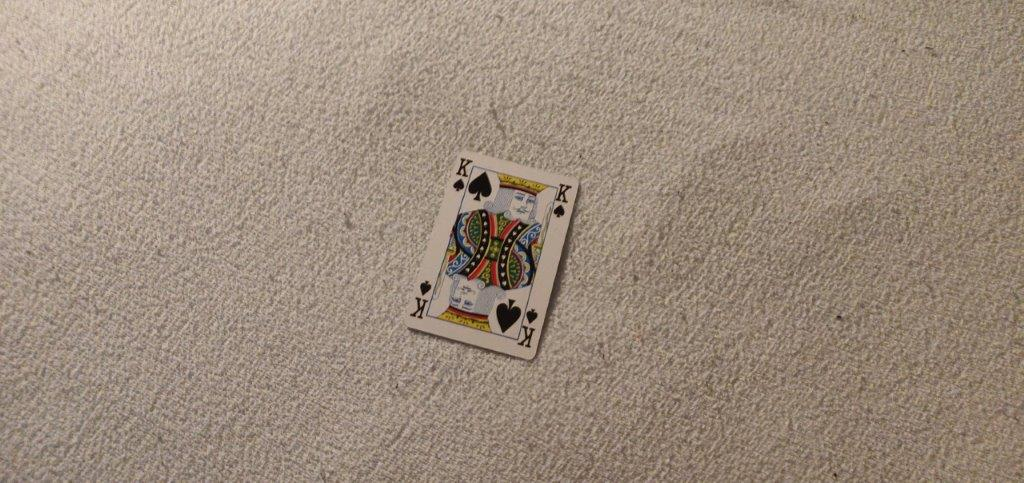KS: (551, 180, 573, 221), (449, 155, 471, 195)
